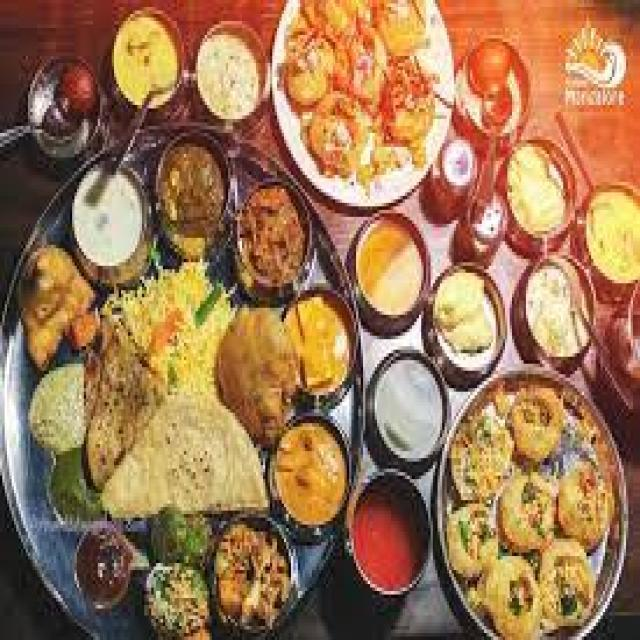papad: (90, 252, 247, 506), (217, 303, 308, 434)
raita: (64, 155, 155, 281), (365, 358, 451, 461), (439, 503, 503, 583)
rice: (88, 253, 244, 504), (449, 410, 515, 501)
sweet: (354, 217, 431, 328), (515, 264, 592, 369), (352, 483, 428, 588), (23, 362, 92, 455), (413, 135, 482, 226), (558, 444, 616, 550), (460, 48, 528, 136), (436, 130, 484, 196)
veg-fry: (9, 232, 104, 374)
